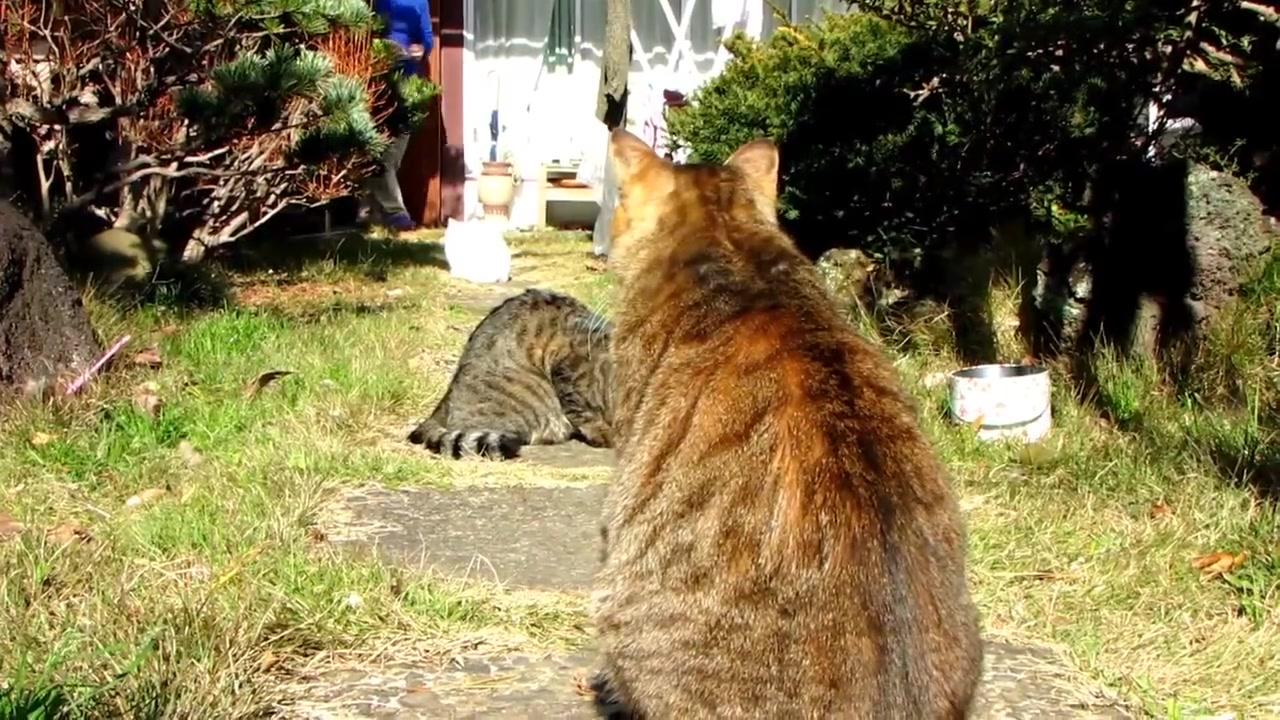cat: (583, 134, 987, 718), (407, 289, 613, 456)
